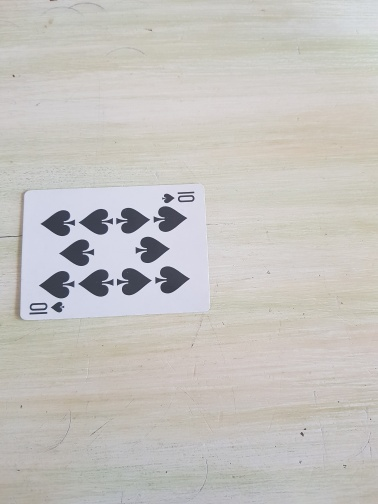ten: (18, 182, 212, 323)
